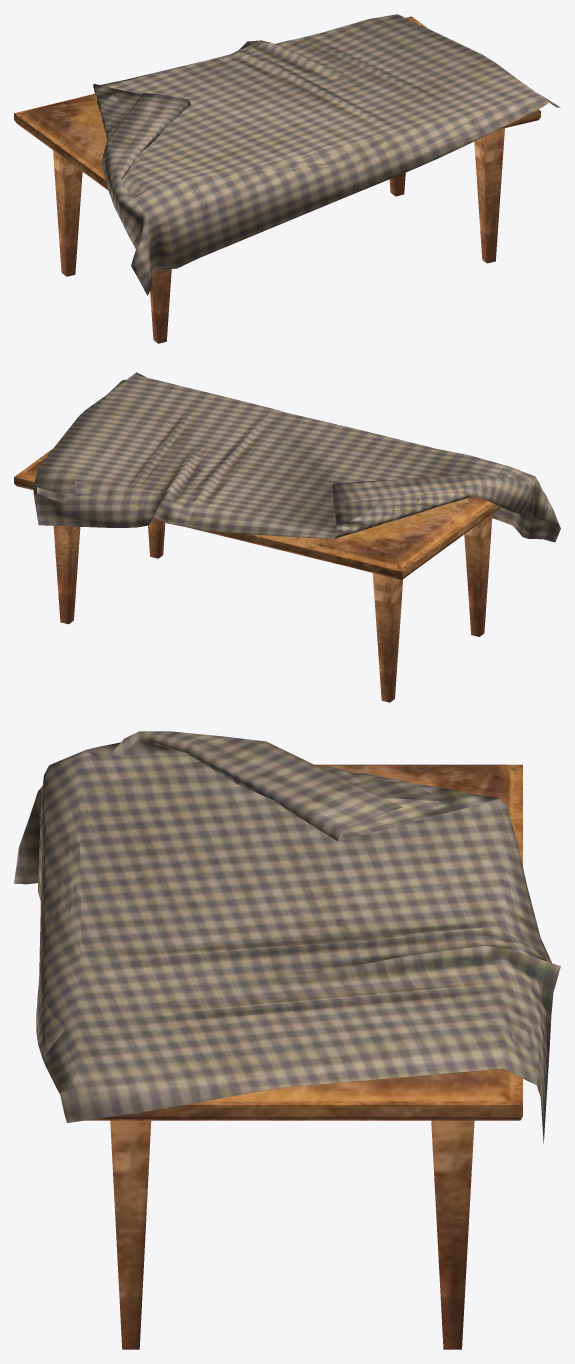
File: dining_table.glb
The picture shows the model from 3 angles, top to bottom: view 1: azimuth 30°, elevation 25°; view 2: azimuth 150°, elevation 25°; view 3: azimuth 270°, elevation 25°; orthographic projection. The views are drawn at different scales.
Parts seen in each view (by area): view 1: dining_table; view 2: dining_table; view 3: dining_table.
Part boxes in pixels (box(x1,y1,x2,y2)): dining_table: box(14, 14, 560, 343); dining_table: box(14, 372, 560, 702); dining_table: box(14, 731, 560, 1349).
Size of the model in its own units: 2.26 by 0.8769 by 1.39.
1 material, 1 textured.
